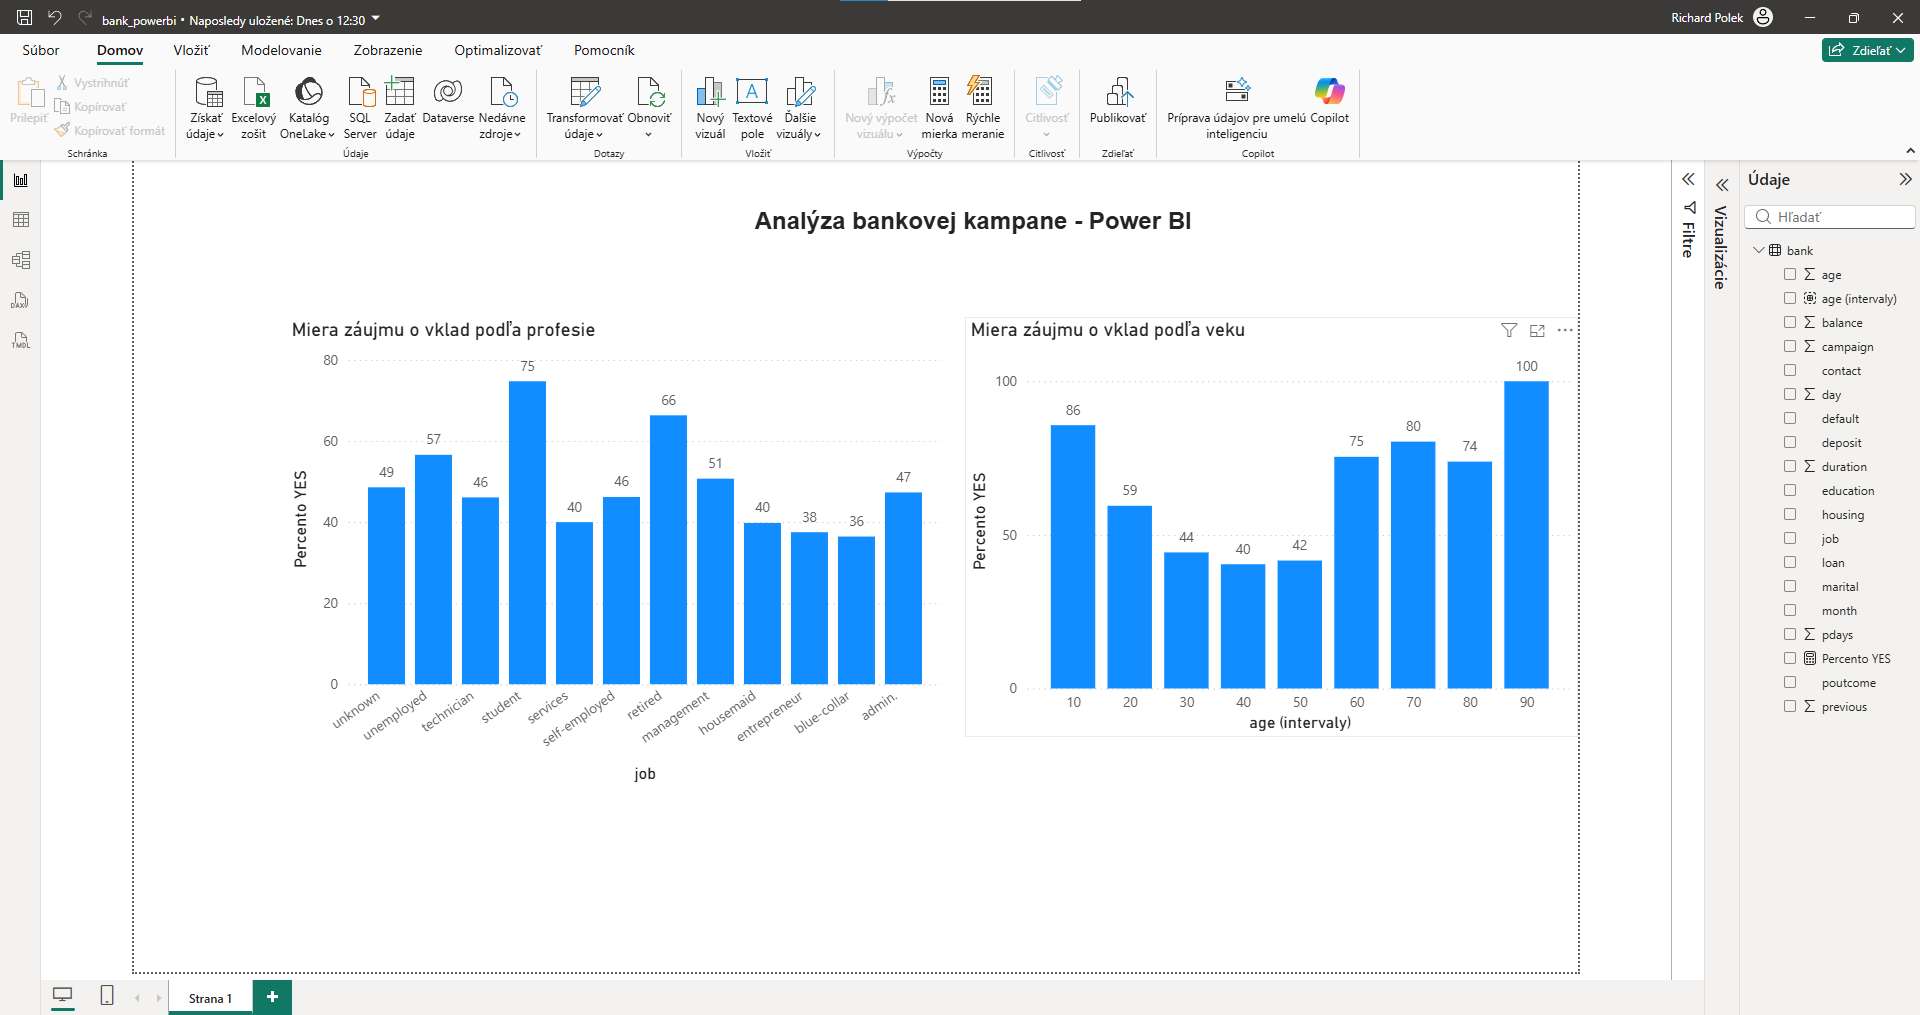

What the dashboard file says about the page in this screenshot:
{"tool":"powerbi","page":{"name":"Strana 1","canvas":[1280,720],"ordinal":0},"visuals":[{"type":"columnChart","title":"Miera záujmu o vklad podľa profesie","fields":{"Category":["bank.job"],"Y":["bank.Percento YES"]},"box":[134.8,139.2,586.1,417.6],"z":0},{"type":"columnChart","title":"Miera záujmu o vklad podľa veku","fields":{"Category":["bank.age (priehradky)"],"Y":["bank.Percento YES"]},"box":[736.8,139.2,543.5,372.4],"z":1000},{"type":"textbox","box":[545.3,37.2,410.5,54.1],"z":1001}]}

Visuals, with their boxes on the page's 1280x720 design canvas (x1, y1, x2, y2). These are canvas units, not pixel positions in the 1920x1015 screenshot, which may show the page scaled, cropped or inside an application window:
"Miera záujmu o vklad podľa profesie" columnChart: (135, 139, 721, 557)
"Miera záujmu o vklad podľa veku" columnChart: (737, 139, 1280, 512)
textbox: (545, 37, 956, 91)
